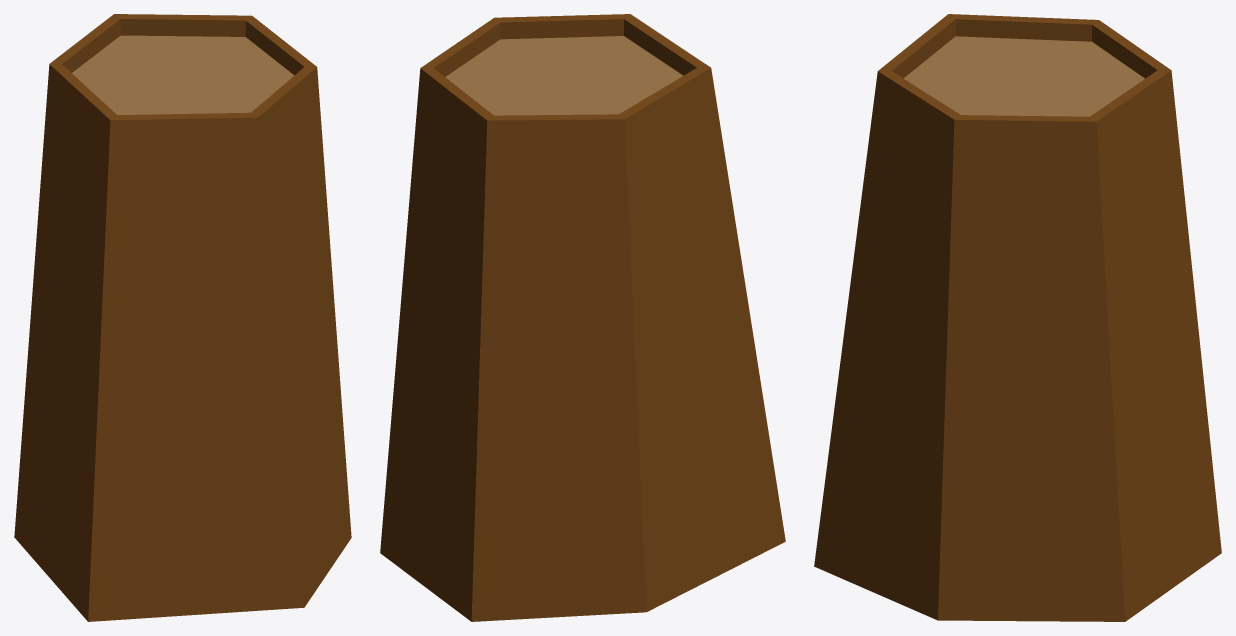
Rendered from tree3.fbx.
3 renders of one model, left to right at view 1: azimuth 30°, elevation 25°; view 2: azimuth 150°, elevation 25°; view 3: azimuth 270°, elevation 25°, orthographic. The views are drawn at different scales.
Visible parts, largest first — view 1: Tree3; view 2: Tree3; view 3: Tree3.
Boxes of the visible parts, left/top/right/bottom form: Tree3: left=14, top=14, right=351, bottom=621; Tree3: left=380, top=14, right=785, bottom=621; Tree3: left=814, top=14, right=1221, bottom=621.
Bounding box in the file's own units: 0.3676 × 0.5778 × 0.4381.
